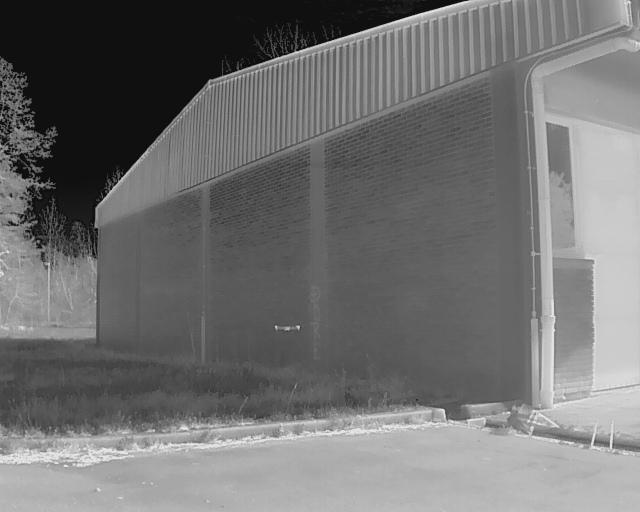drone: (266, 309, 307, 354)
